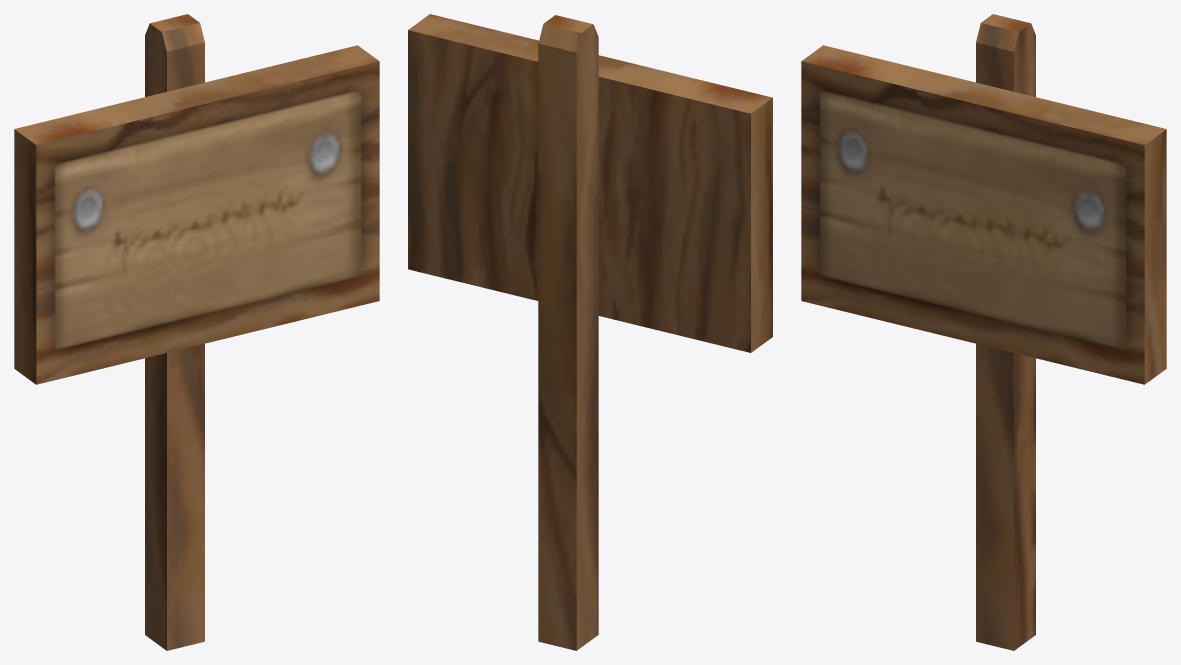
The model's file is sign.glb.
3 views of the same model, side by side, from view 1: azimuth 30°, elevation 25°; view 2: azimuth 150°, elevation 25°; view 3: azimuth 330°, elevation 25° (orthographic).
Parts seen in each view (by area): view 1: Sign; view 2: Sign; view 3: Sign.
Boxes of the visible parts, <box> form: Sign: <box>14,14,379,650</box>; Sign: <box>408,14,772,650</box>; Sign: <box>801,14,1166,650</box>.
Bounding box in the file's own units: 0.9459 × 1.62 × 0.2102.
1 material, 1 textured.
